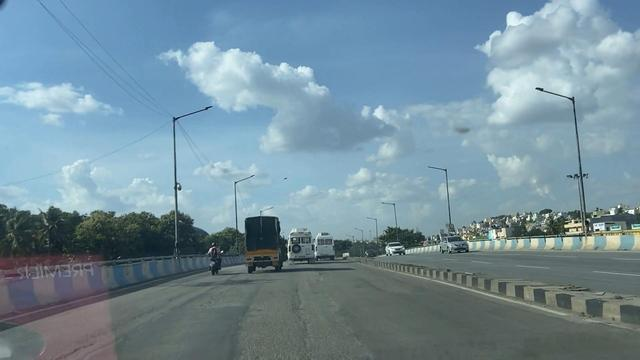HMV: (241, 214, 285, 274), (289, 229, 317, 267), (317, 231, 341, 260)
LMV: (201, 236, 222, 266)
RoadDamages: (206, 281, 383, 360), (55, 319, 133, 357)
